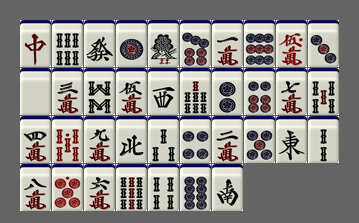0m: (276, 20, 307, 67)
0p: (52, 164, 83, 211)
0s: (52, 116, 83, 163)
1m: (212, 20, 243, 67)
1p: (116, 20, 147, 67)
1s: (148, 20, 179, 67)
1z: (276, 116, 307, 163)
2m: (212, 116, 243, 163)
2p: (212, 68, 243, 115)
2s: (308, 116, 339, 163)
2z: (212, 164, 243, 211)
3m: (52, 68, 83, 115)
3p: (308, 20, 339, 67)
3s: (148, 116, 179, 163)
3z: (148, 68, 179, 115)
4m: (20, 116, 51, 163)
4p: (180, 116, 211, 163)
4s: (148, 164, 179, 211)
4z: (116, 116, 147, 163)
5m: (116, 68, 147, 115)
5p: (244, 116, 275, 163)
5s: (308, 68, 339, 115)
5z: (20, 68, 51, 115)
6m: (84, 164, 115, 211)
6p: (244, 68, 275, 115)
6s: (52, 20, 83, 67)
6z: (84, 20, 115, 67)
7m: (276, 68, 307, 115)
7p: (180, 20, 211, 67)
7s: (180, 68, 211, 115)
7z: (20, 20, 51, 67)
8m: (20, 164, 51, 211)
8p: (180, 164, 211, 211)
8s: (84, 68, 115, 115)
9m: (84, 116, 115, 163)
9p: (244, 20, 275, 67)
9s: (116, 164, 147, 211)
